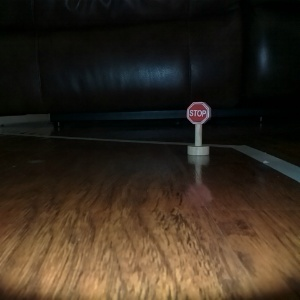stop sign: (183, 100, 212, 159)
